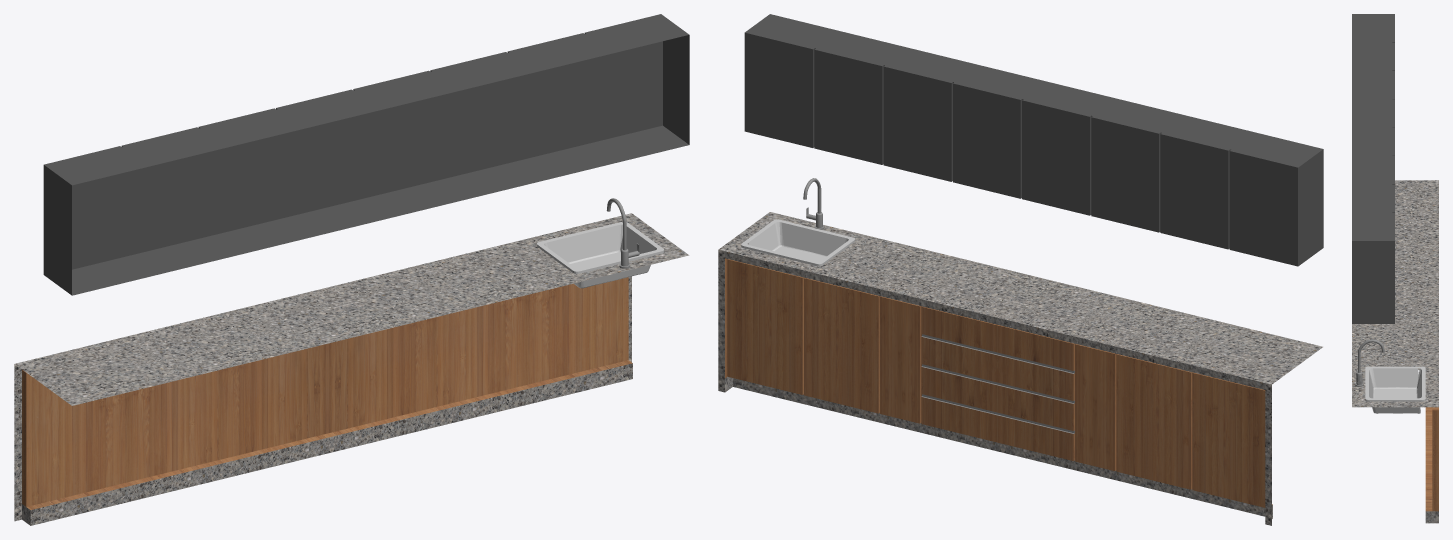
The model's file is MSH_Cocina_Coworking.FBX.
3 renders of one model, left to right at view 1: azimuth 30°, elevation 25°; view 2: azimuth 150°, elevation 25°; view 3: azimuth 270°, elevation 25°, orthographic. The views are drawn at different scales.
Parts seen in each view (by area): view 1: MSH_Cocina_Coworking; view 2: MSH_Cocina_Coworking; view 3: MSH_Cocina_Coworking.
Part boxes in pixels (x1,y1,x2,y2): MSH_Cocina_Coworking: (14, 14, 689, 525); MSH_Cocina_Coworking: (718, 14, 1323, 525); MSH_Cocina_Coworking: (1352, 14, 1438, 523).
Bounding box in the file's own units: 410 × 240 × 66.3.
